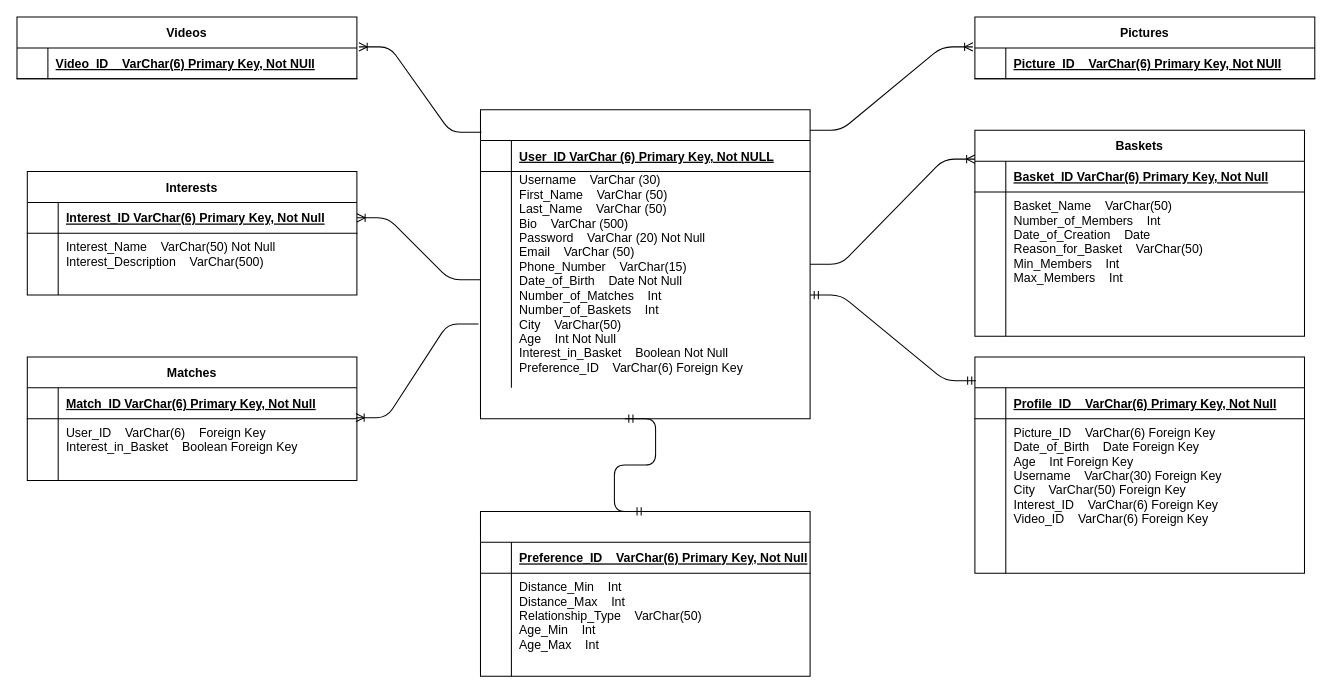
Image size: 1332x693. Some labels were removed from this diagram. Each missing label, with the box of its shape:
Preferences: (479, 510, 810, 676)
Profiles: (974, 356, 1304, 573)
Users: (479, 109, 810, 419)
